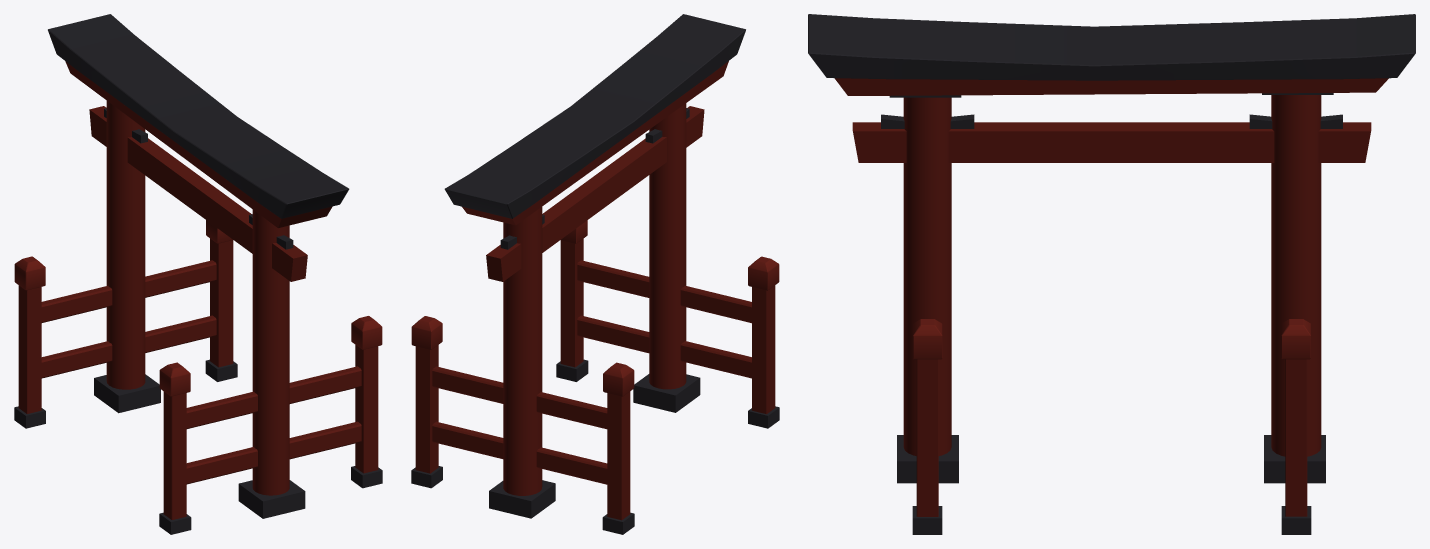
The model's file is arch07.fbx.
3 renders of one model, left to right at view 1: azimuth 30°, elevation 25°; view 2: azimuth 150°, elevation 25°; view 3: azimuth 270°, elevation 25°, orthographic. The views are drawn at different scales.
Parts seen in each view (by area): view 1: arch07; view 2: arch07; view 3: arch07.
Part boxes in pixels (x1,y1,x2,y2): arch07: (14, 14, 382, 534); arch07: (411, 14, 779, 534); arch07: (808, 14, 1415, 534).
Size of the model in its own units: 680 by 1053 by 1329.
